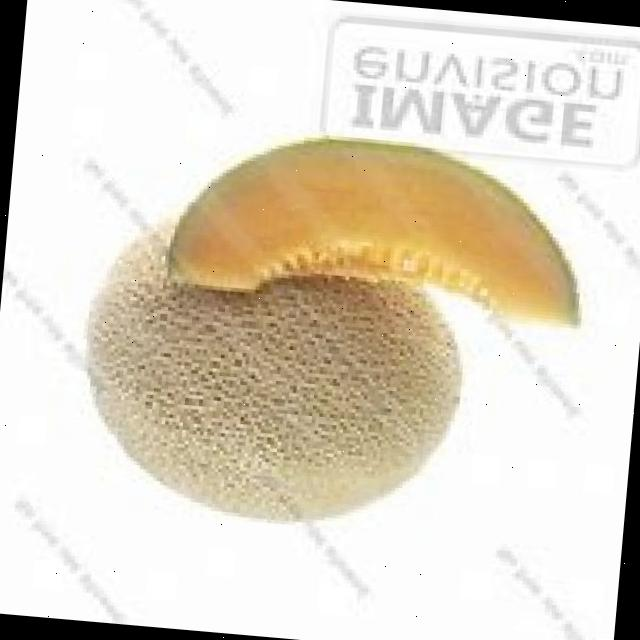Hami Melon: (74, 206, 470, 538), (170, 130, 600, 334)
